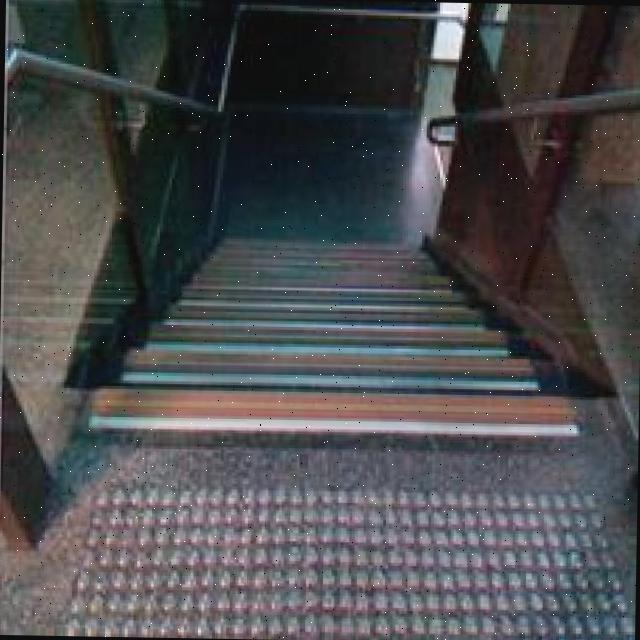stairs: (80, 226, 588, 442)
